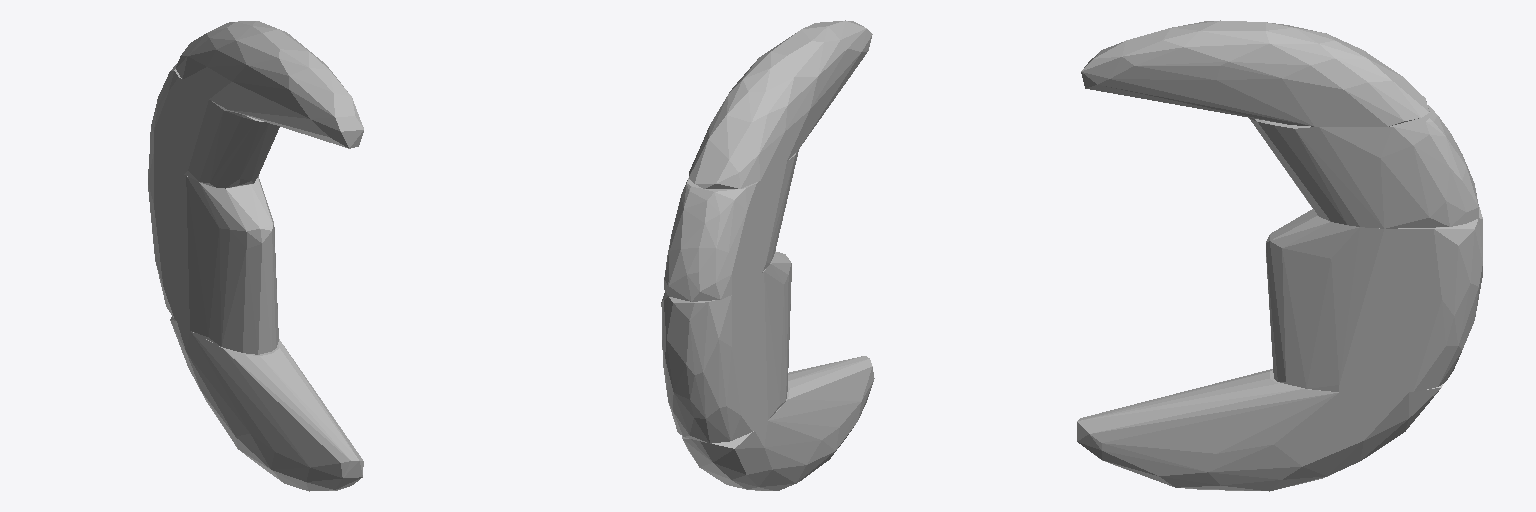
robot.urdf — root:
<robot name="root"><link name="link_Moon_800_tex_0000"><inertial><origin rpy="0 0 0" xyz="0 0 0" /><mass value="1.32E-02" /><inertia ixx="7.01E-06" ixy="-5.27E-10" ixz="1.32E-08" iyy="6.02E-06" iyz="-4.03E-07" izz="1.11E-06" /></inertial><visual><origin rpy="0 0 0" xyz="0 0 0" /><geometry><mesh filename="package://Moon_800_tex/Moon_800_tex_0000.obj" /></geometry><material name=""><color rgba="0.75 0.75 0.75 1" /></material></visual><collision><origin rpy="0 0 0" xyz="0 0 0" /><geometry><mesh filename="package://Moon_800_tex/Moon_800_tex_0000.obj" /></geometry></collision></link><link name="link_Moon_800_tex_0001"><inertial><origin rpy="0 0 0" xyz="0 0 0" /><mass value="1.74E-02" /><inertia ixx="3.68E-06" ixy="1.55E-08" ixz="-2.72E-09" iyy="1.01E-06" iyz="7.93E-07" izz="2.87E-06" /></inertial><visual><origin rpy="0 0 0" xyz="0 0 0" /><geometry><mesh filename="package://Moon_800_tex/Moon_800_tex_0001.obj" /></geometry><material name=""><color rgba="0.75 0.75 0.75 1" /></material></visual><collision><origin rpy="0 0 0" xyz="0 0 0" /><geometry><mesh filename="package://Moon_800_tex/Moon_800_tex_0001.obj" /></geometry></collision></link><joint name="link_Moon_800_tex_0001_joint" type="fixed"><origin rpy="0 0 0" xyz="0 0 0" /><parent link="link_Moon_800_tex_0000" /><child link="link_Moon_800_tex_0001" /></joint><link name="link_Moon_800_tex_0002"><inertial><origin rpy="0 0 0" xyz="0 0 0" /><mass value="9.63E-03" /><inertia ixx="2.82E-06" ixy="1.58E-08" ixz="2.16E-08" iyy="1.51E-06" iyz="-1.13E-06" izz="1.42E-06" /></inertial><visual><origin rpy="0 0 0" xyz="0 0 0" /><geometry><mesh filename="package://Moon_800_tex/Moon_800_tex_0002.obj" /></geometry><material name=""><color rgba="0.75 0.75 0.75 1" /></material></visual><collision><origin rpy="0 0 0" xyz="0 0 0" /><geometry><mesh filename="package://Moon_800_tex/Moon_800_tex_0002.obj" /></geometry></collision></link><joint name="link_Moon_800_tex_0002_joint" type="fixed"><origin rpy="0 0 0" xyz="0 0 0" /><parent link="link_Moon_800_tex_0001" /><child link="link_Moon_800_tex_0002" /></joint><link name="link_Moon_800_tex_0003"><inertial><origin rpy="0 0 0" xyz="0 0 0" /><mass value="9.49E-03" /><inertia ixx="5.60E-06" ixy="1.92E-09" ixz="3.69E-08" iyy="4.92E-06" iyz="4.65E-07" izz="7.56E-07" /></inertial><visual><origin rpy="0 0 0" xyz="0 0 0" /><geometry><mesh filename="package://Moon_800_tex/Moon_800_tex_0003.obj" /></geometry><material name=""><color rgba="0.75 0.75 0.75 1" /></material></visual><collision><origin rpy="0 0 0" xyz="0 0 0" /><geometry><mesh filename="package://Moon_800_tex/Moon_800_tex_0003.obj" /></geometry></collision></link><joint name="link_Moon_800_tex_0003_joint" type="fixed"><origin rpy="0 0 0" xyz="0 0 0" /><parent link="link_Moon_800_tex_0002" /><child link="link_Moon_800_tex_0003" /></joint></robot>

--- Render facts (derived) ---
Views: 3 orthographic renders of the robot side by side, from view 1: azimuth 30°, elevation 25°; view 2: azimuth 150°, elevation 25°; view 3: azimuth 270°, elevation 25°.
Model root with 4 links and 3 joints (3 fixed), rooted at link_Moon_800_tex_0000, posed every joint at zero.
Links seen in each view (by area): view 1: link_Moon_800_tex_0001, link_Moon_800_tex_0000, link_Moon_800_tex_0003, link_Moon_800_tex_0002; view 2: link_Moon_800_tex_0001, link_Moon_800_tex_0003, link_Moon_800_tex_0000, link_Moon_800_tex_0002; view 3: link_Moon_800_tex_0001, link_Moon_800_tex_0000, link_Moon_800_tex_0003, link_Moon_800_tex_0002.
Link boxes in pixels (<box>): link_Moon_800_tex_0001: <box>148,147,278,354</box>; link_Moon_800_tex_0000: <box>170,316,363,491</box>; link_Moon_800_tex_0003: <box>176,21,363,148</box>; link_Moon_800_tex_0002: <box>150,63,279,188</box>; link_Moon_800_tex_0001: <box>661,251,791,443</box>; link_Moon_800_tex_0003: <box>689,20,872,188</box>; link_Moon_800_tex_0000: <box>682,356,874,490</box>; link_Moon_800_tex_0002: <box>664,150,798,301</box>; link_Moon_800_tex_0001: <box>1266,207,1482,391</box>; link_Moon_800_tex_0000: <box>1077,369,1442,491</box>; link_Moon_800_tex_0003: <box>1081,20,1429,126</box>; link_Moon_800_tex_0002: <box>1249,105,1478,228</box>.
Size in the robot's own frame: 0.0092 by 0.0454 by 0.0569 metres.
4 mesh visuals loaded from 4 distinct referenced files (4 OBJ).